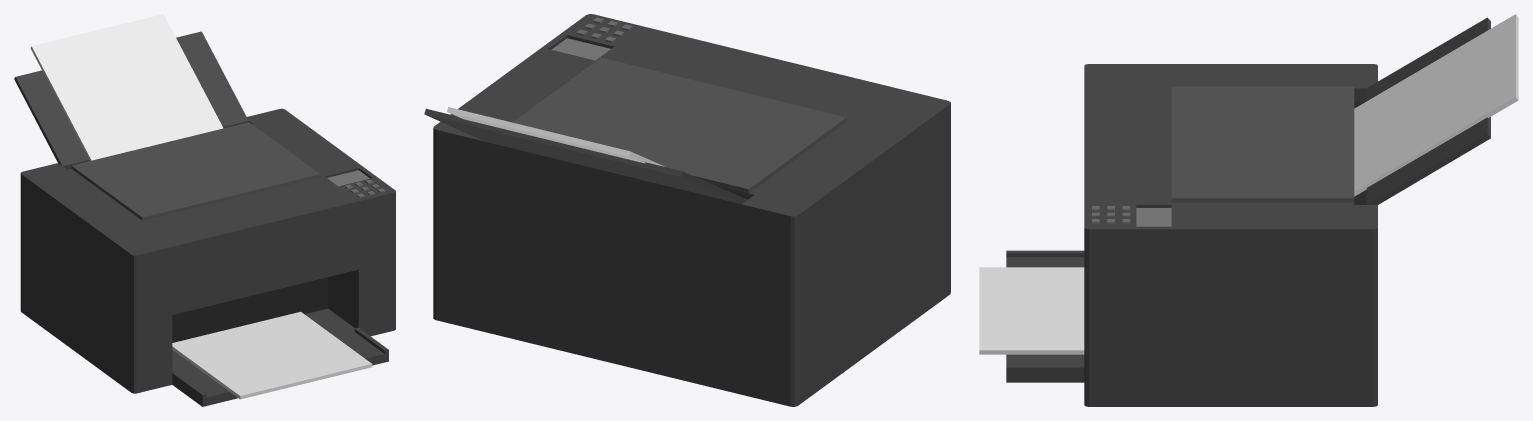
File: SM_Props_Printer_01.fbx
3 renders of one model, left to right at view 1: azimuth 30°, elevation 25°; view 2: azimuth 150°, elevation 25°; view 3: azimuth 270°, elevation 25°, orthographic. The views are drawn at different scales.
Parts seen in each view (by area): view 1: SM_Props_Printer_01; view 2: SM_Props_Printer_01; view 3: SM_Props_Printer_01.
Boxes of the visible parts, box(x1,y1,x2,y2) form: SM_Props_Printer_01: box(14, 14, 395, 406); SM_Props_Printer_01: box(424, 14, 950, 406); SM_Props_Printer_01: box(979, 14, 1518, 406).
Bounding box in the file's own units: 0.4662 × 0.3529 × 0.6414.
